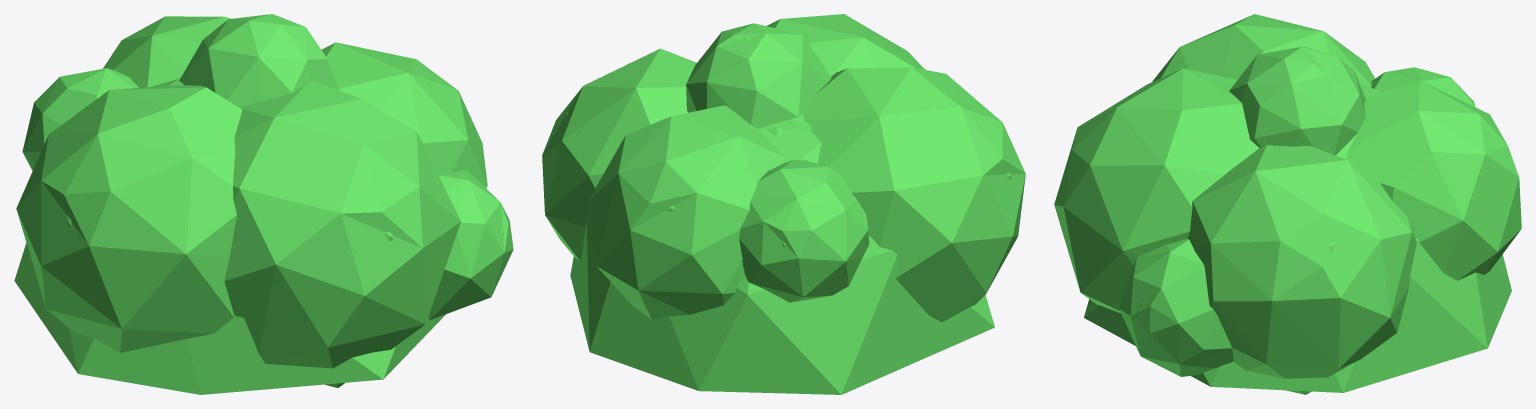
The model's file is bush2.gltf.
3 views of the same model, side by side, from view 1: azimuth 30°, elevation 25°; view 2: azimuth 150°, elevation 25°; view 3: azimuth 270°, elevation 25° (orthographic). The views are drawn at different scales.
Parts seen in each view (by area): view 1: Sphere.036_leaves_0; view 2: Sphere.036_leaves_0; view 3: Sphere.036_leaves_0.
Part boxes in pixels (x1,y1,x2,y2): Sphere.036_leaves_0: [14, 14, 513, 394]; Sphere.036_leaves_0: [542, 14, 1025, 394]; Sphere.036_leaves_0: [1054, 14, 1521, 394].
Size of the model in its own units: 0.5926 by 0.379 by 0.5665.
